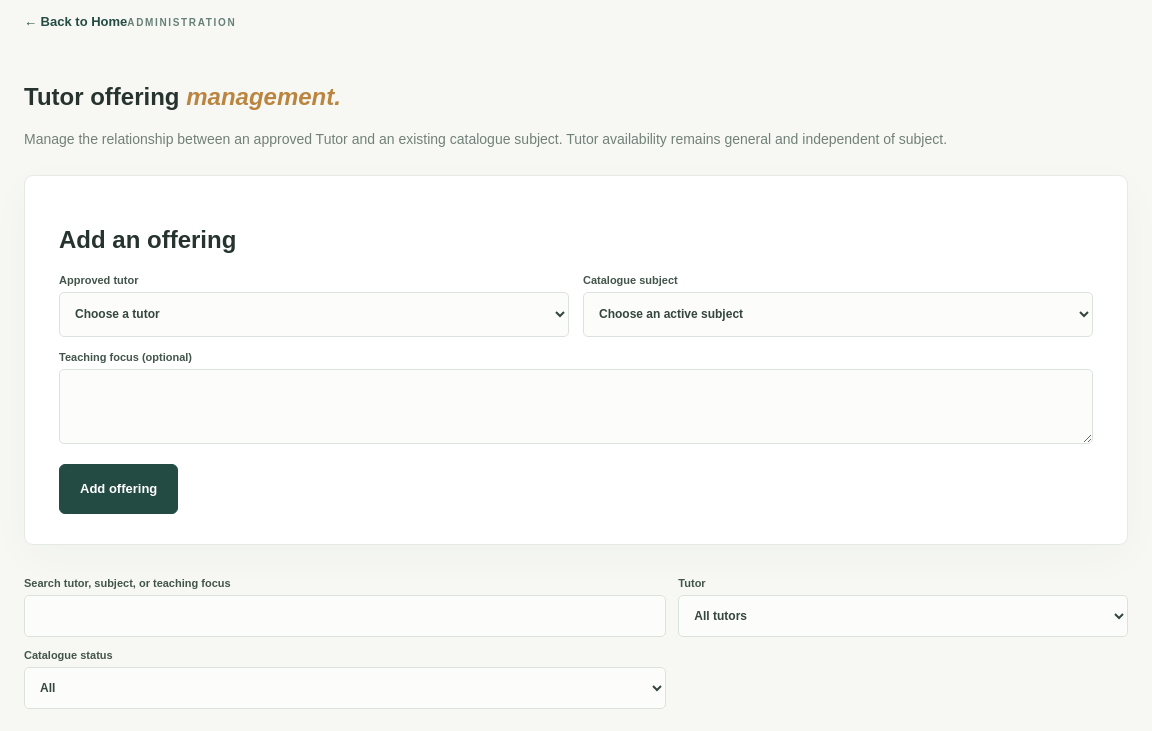
Admin management pages › lets Admin create offerings linked to a real approved Tutor and catalogue subject
Select "Ada Lovelace" in the dropdown labelled "Approved tutor" at (314, 314), box 59,292 -> 569,337
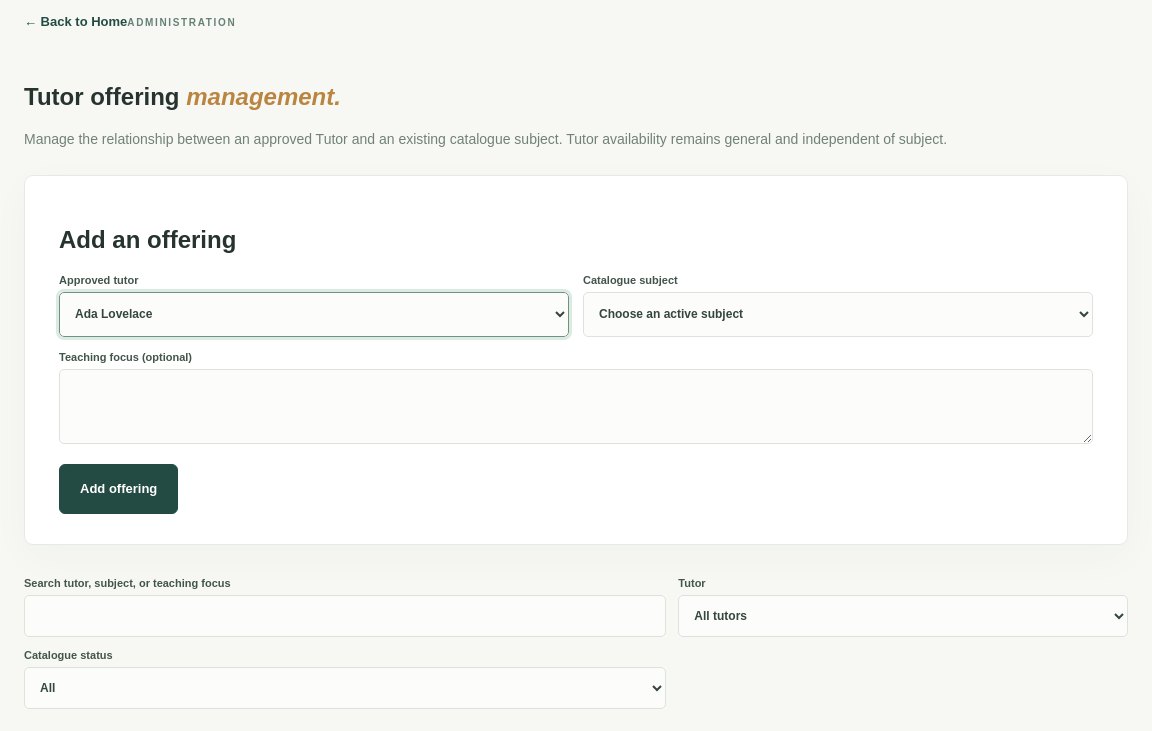
Select "Statistics" in the dropdown labelled "Catalogue subject" at (838, 314), box 583,292 -> 1093,337
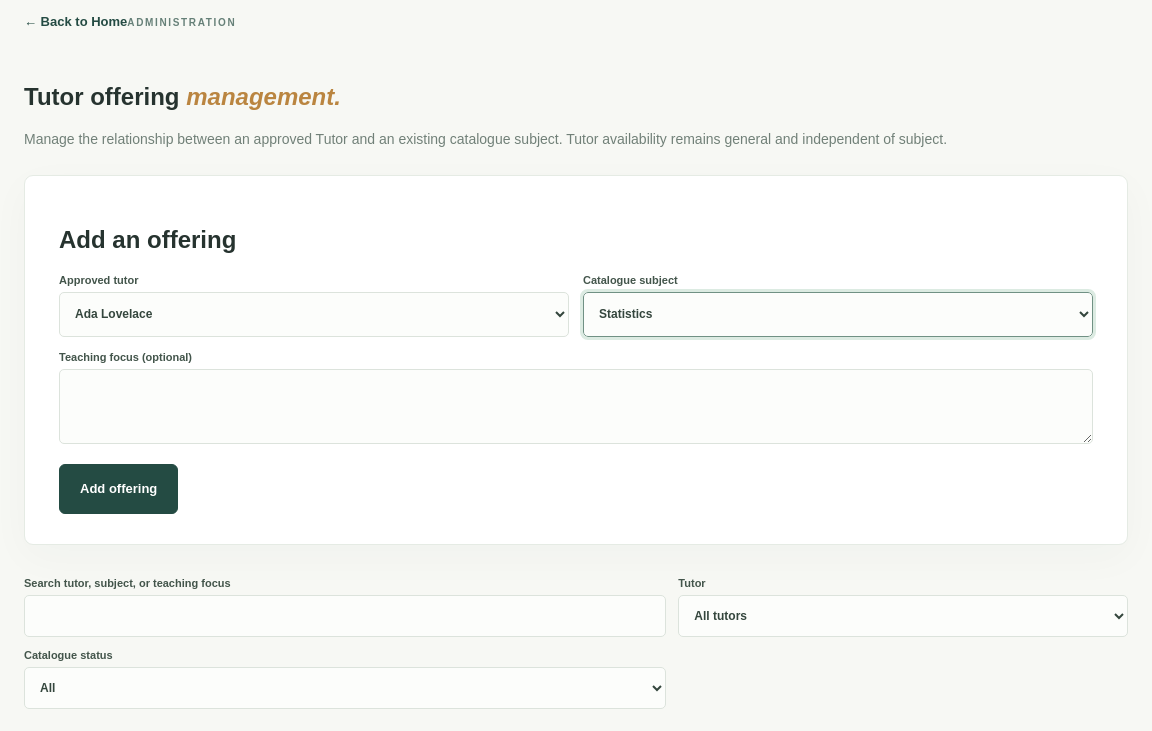
Type "Linear algebra." into the text box labelled "Teaching focus (optional)" at (576, 406), box 59,369 -> 1093,444
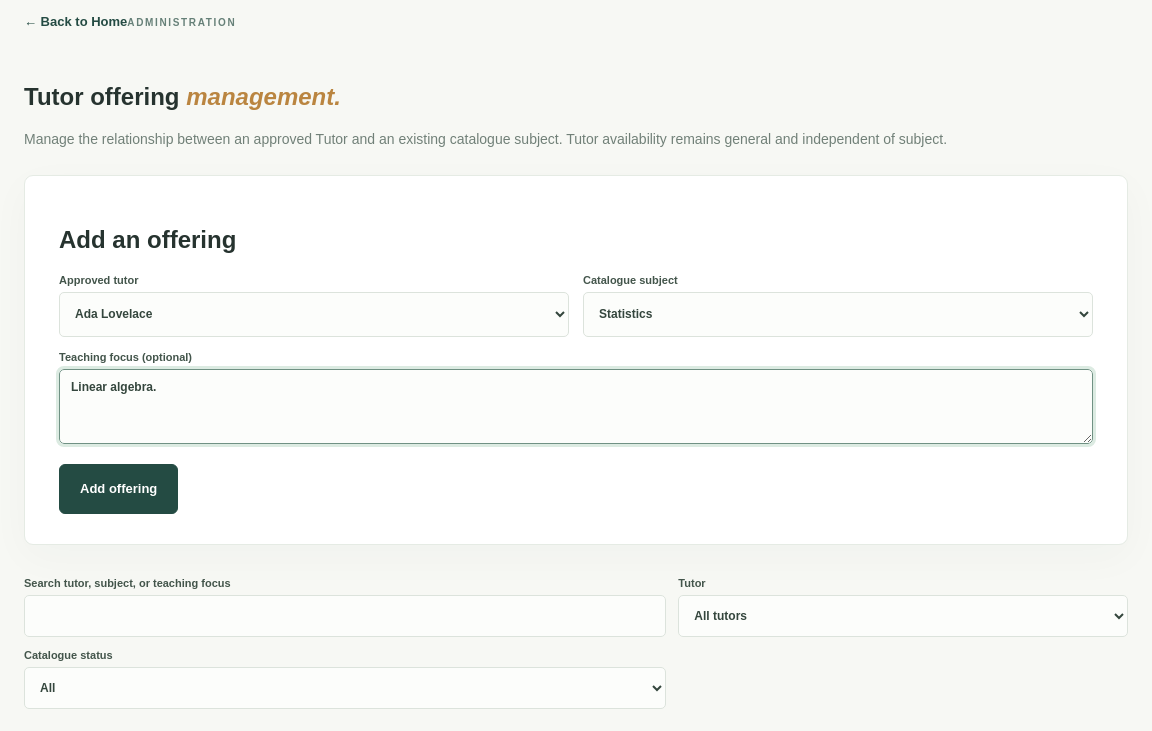
Click the button "Add offering" at (119, 489), box 59,464 -> 178,514
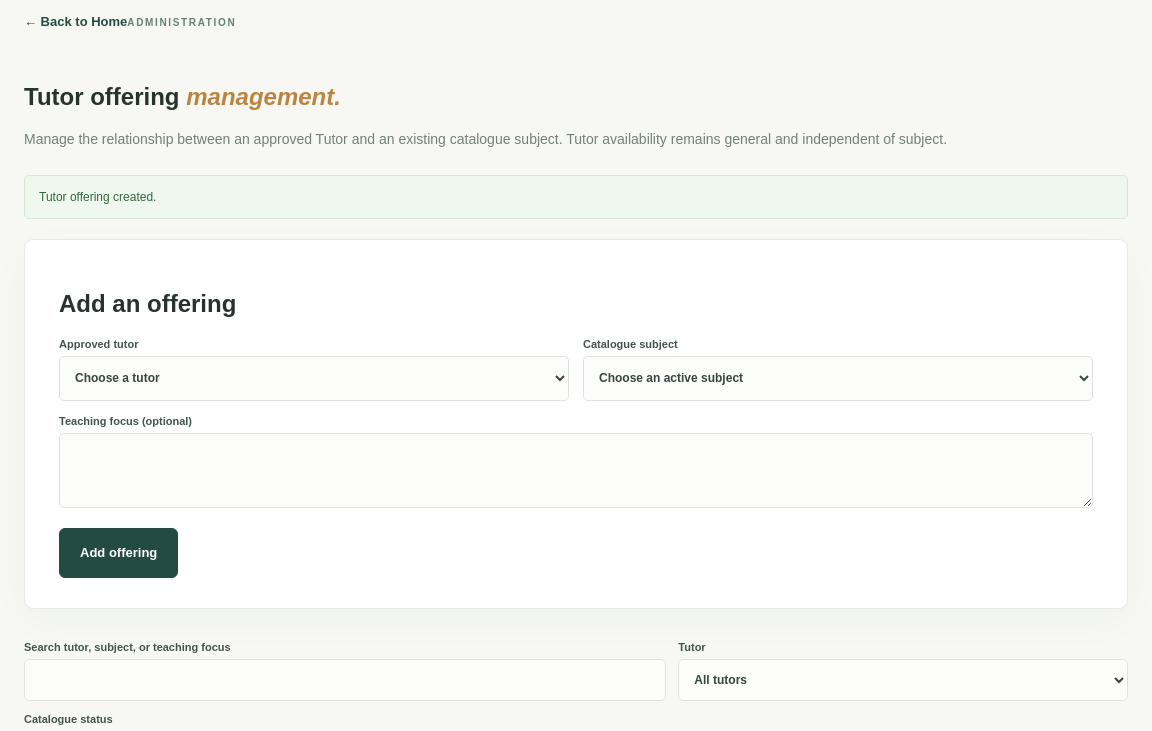
Now the text "Tutor offering created." is shown, box 24,175 -> 1128,219
